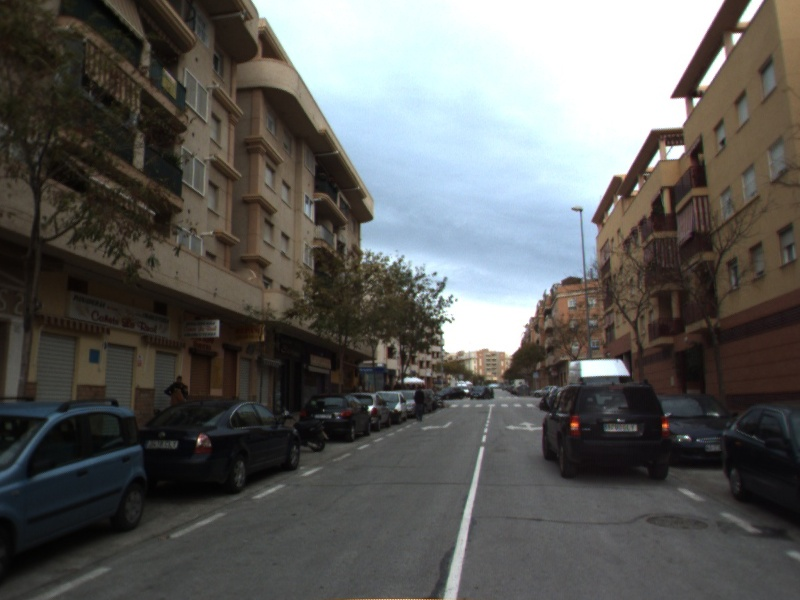STRAIGHT_LEFT_RIGHT: (504, 420, 544, 432)
